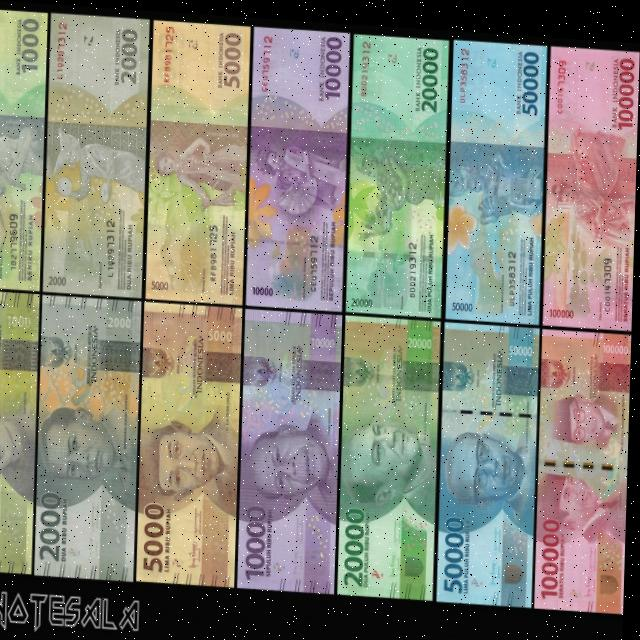1000IndonesianRupiah: (0, 290, 37, 575)
